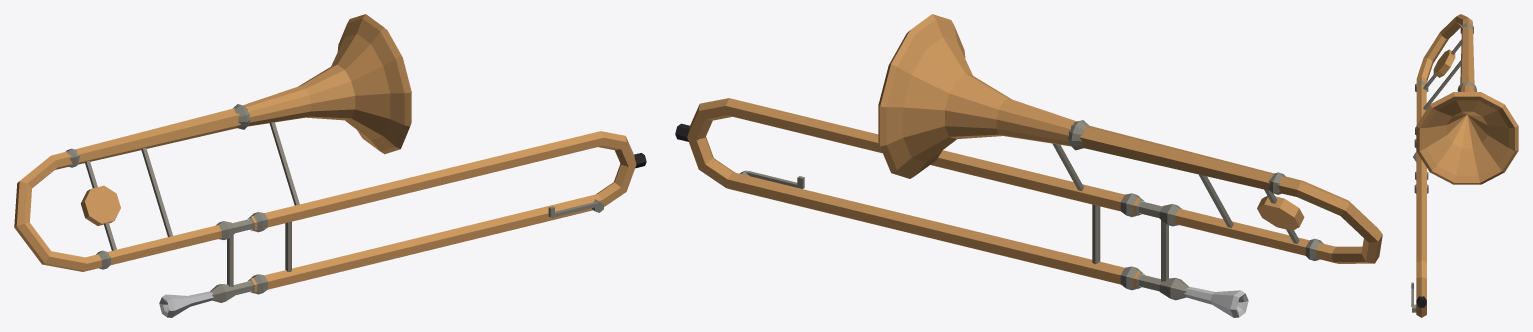
The model's file is trombone-f9069e.glb.
3 views of the same model, side by side, from view 1: azimuth 30°, elevation 25°; view 2: azimuth 150°, elevation 25°; view 3: azimuth 270°, elevation 25° (orthographic). The views are drawn at different scales.
Visible parts, largest first — view 1: trombone-body, slide-outer, mouthpiece-cup; view 2: trombone-body, slide-outer, mouthpiece-cup; view 3: trombone-body, slide-outer, slide-bumper.
Part boxes in pixels (box(x1,y1,x2,y2)): trombone-body: box(14, 14, 411, 302); slide-outer: box(247, 131, 636, 294); mouthpiece-cup: box(159, 291, 213, 317); trombone-body: box(878, 14, 1382, 300); slide-outer: box(687, 98, 1144, 290); mouthpiece-cup: box(1184, 286, 1248, 317); trombone-body: box(1415, 14, 1518, 184); slide-outer: box(1411, 139, 1428, 317); slide-bumper: box(1416, 296, 1426, 307).
Bounding box in the file's own units: 1.13 × 0.38 × 0.2345.
